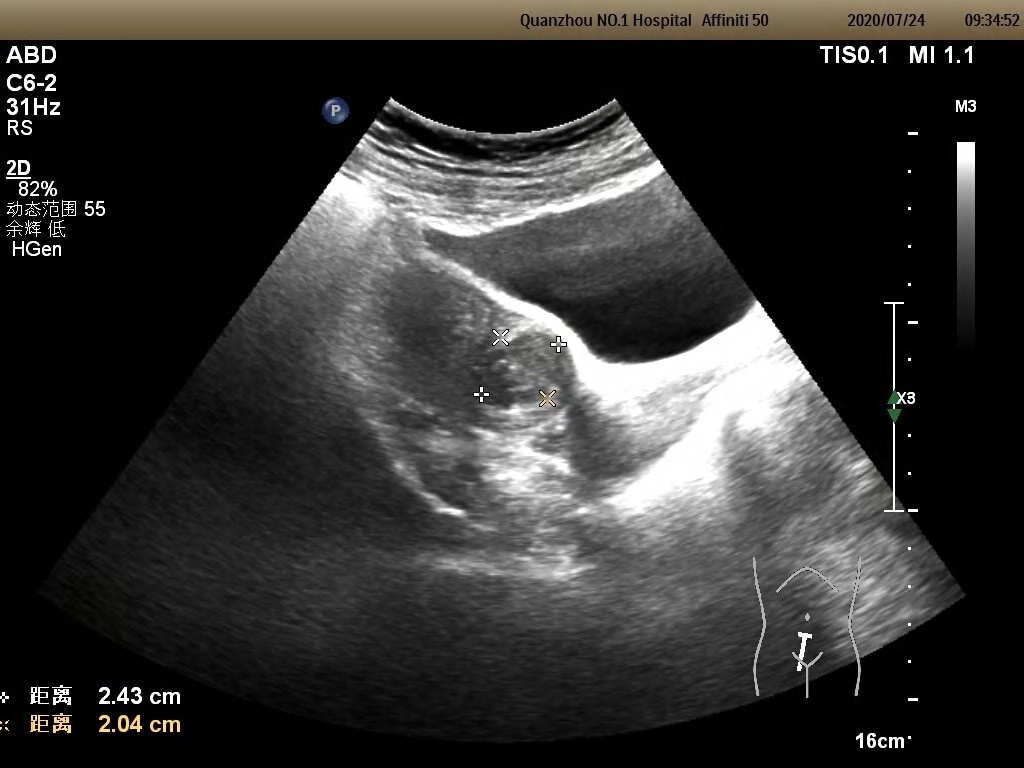肌瘤: (481, 329, 572, 407)
